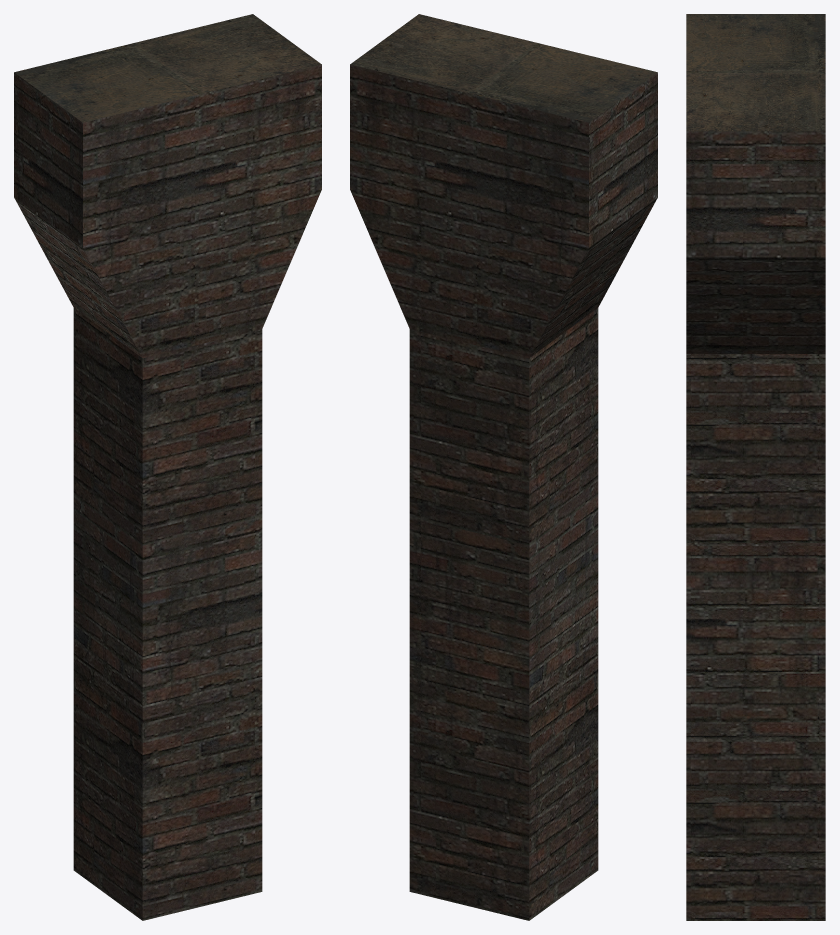
The model's file is pillar_hs_7.dae.
The picture shows the model from 3 angles, left to right: view 1: azimuth 30°, elevation 25°; view 2: azimuth 150°, elevation 25°; view 3: azimuth 270°, elevation 25°; orthographic projection.
Visible parts, largest first — view 1: pillar_hs_7; view 2: pillar_hs_7; view 3: pillar_hs_7.
Part boxes in pixels (x1=…): pillar_hs_7: x1=14, y1=14, x2=321, y2=920; pillar_hs_7: x1=350, y1=14, x2=657, y2=920; pillar_hs_7: x1=686, y1=14, x2=825, y2=920.
Bounding box in the file's own units: 2 × 1 × 6.5.
2 materials, 2 textured.
